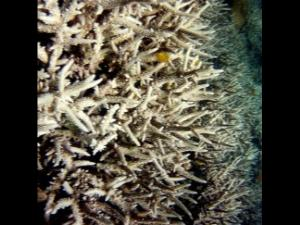bleached_corals: (38, 0, 248, 225)
